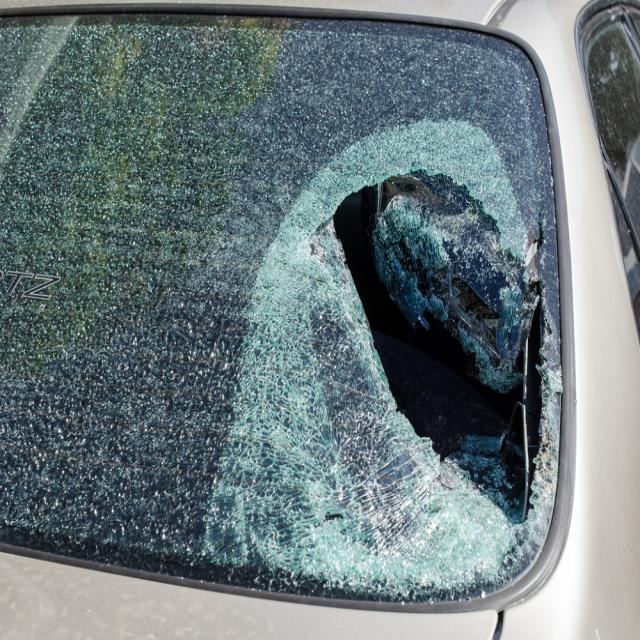glass shatter: (0, 13, 562, 603)
